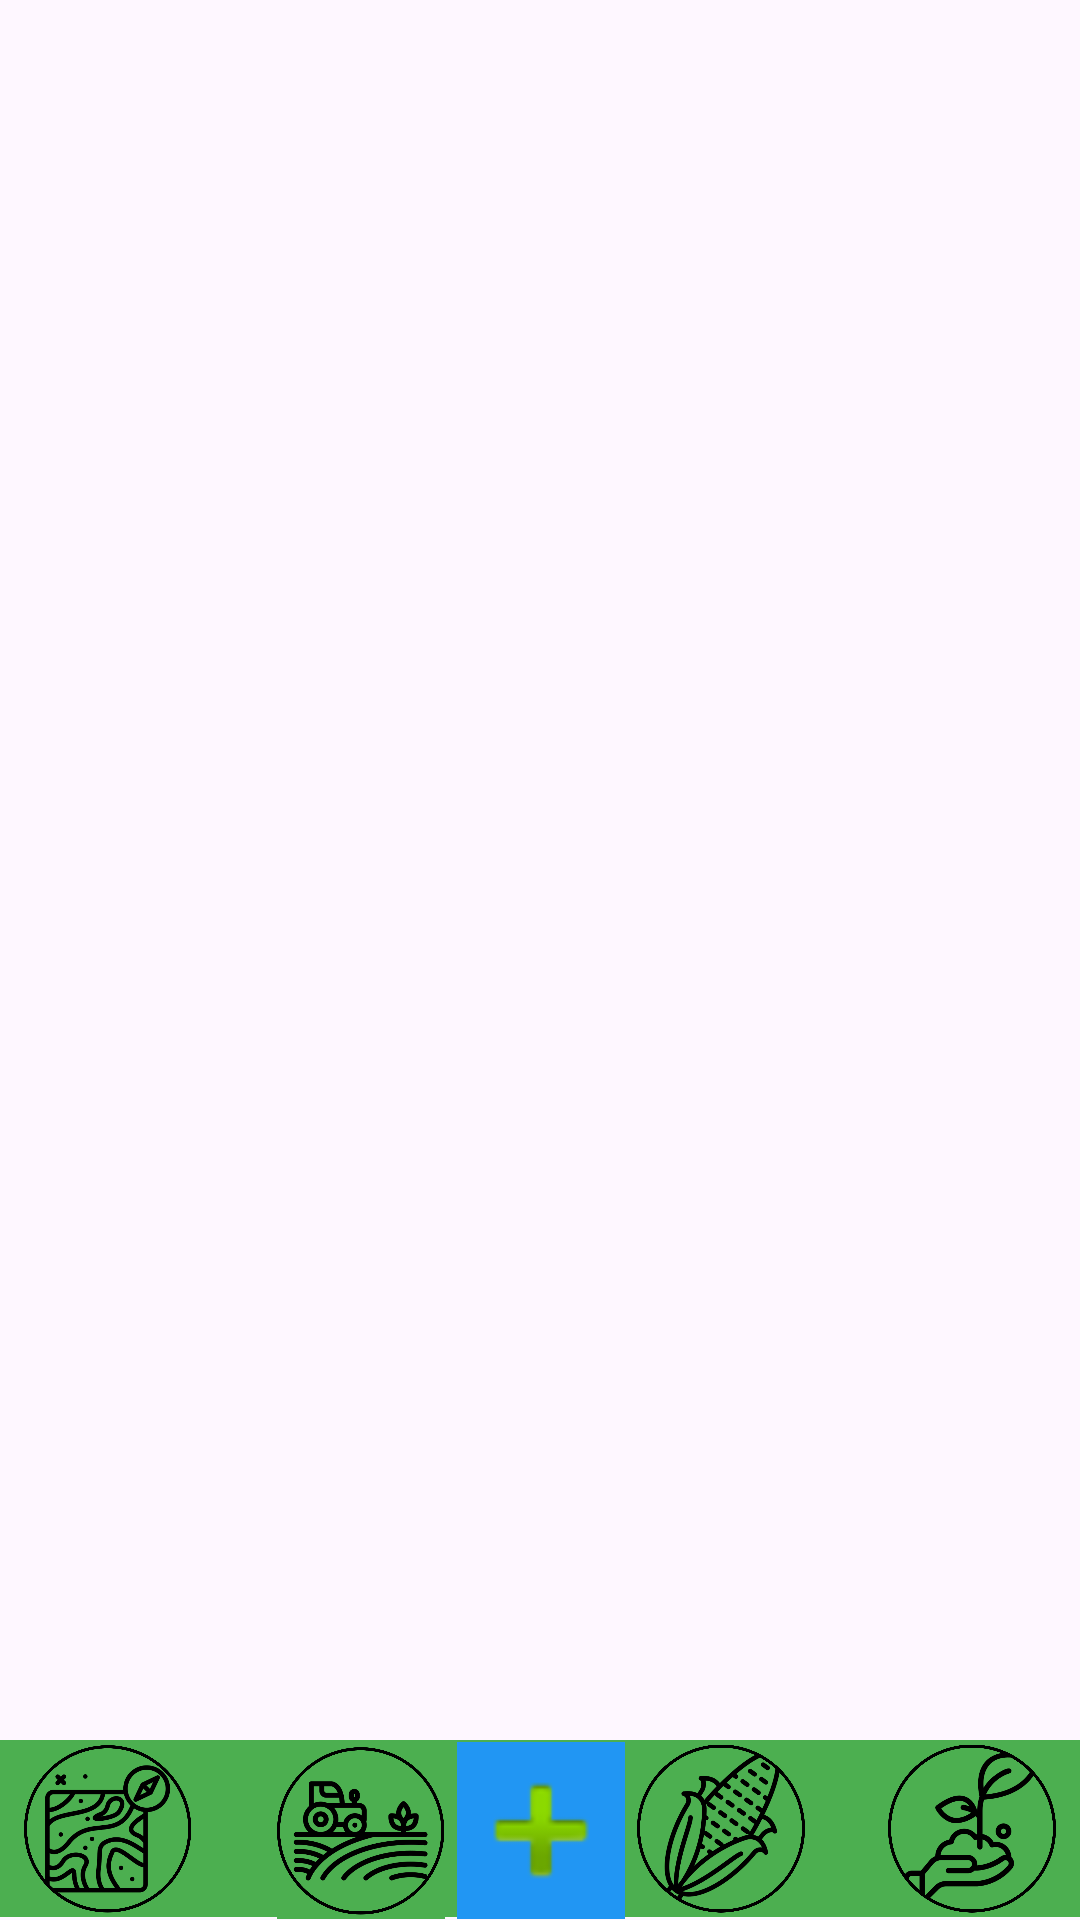

Locate icon controls on the screen. Image size 1080px×1920px, boxes as (x1, y1, x2, y2).
add: (457, 1742, 625, 1919)
aplicaciones: (888, 1745, 1056, 1913)
cultivos: (637, 1745, 805, 1913)
labores: (277, 1747, 444, 1915)
lotes: (24, 1745, 191, 1913)
